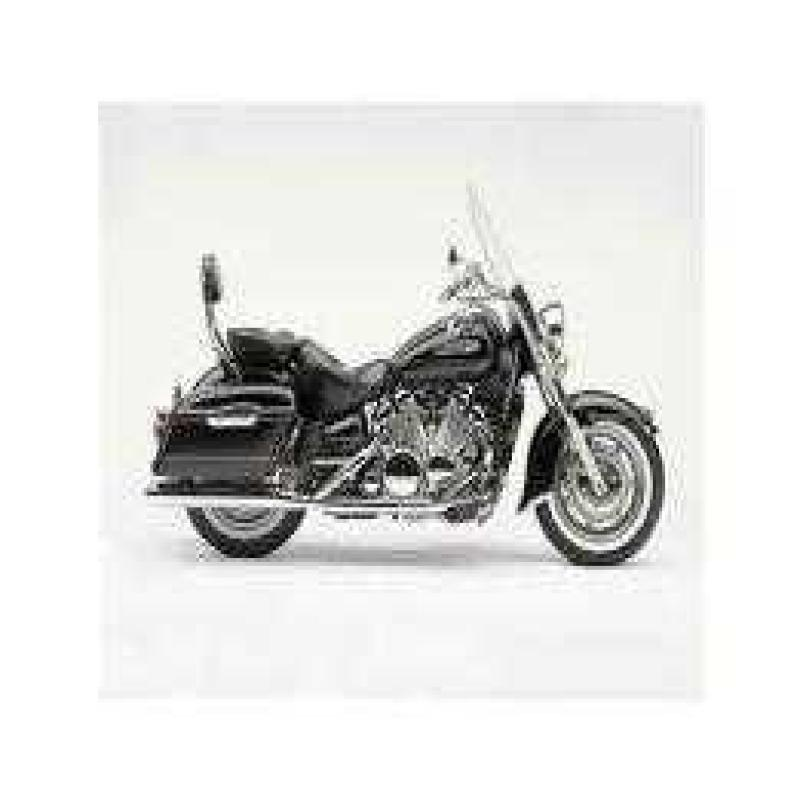bike: (125, 169, 674, 586)
